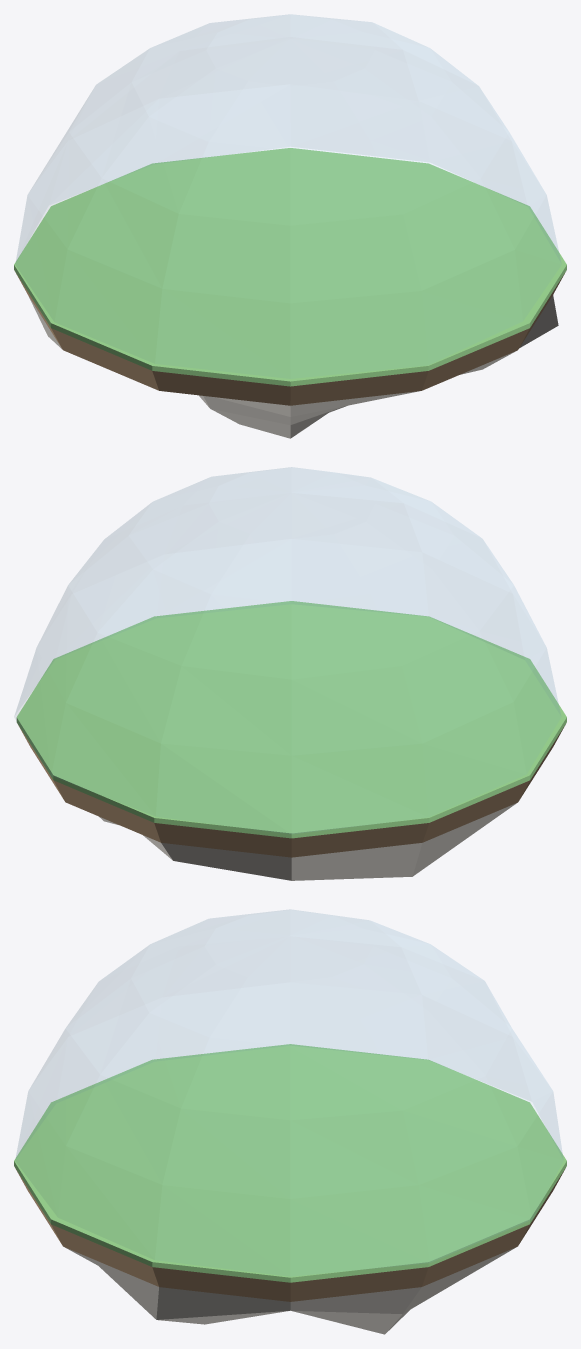
The model's file is water_island.glb.
3 views of the same model, one above another, from view 1: azimuth 30°, elevation 25°; view 2: azimuth 150°, elevation 25°; view 3: azimuth 270°, elevation 25° (orthographic).
Visible parts, largest first — view 1: Island, WaterDome; view 2: Island, WaterDome; view 3: Island, WaterDome.
Boxes of the visible parts, box(x1,y1,x2,y2) form: Island: box(14, 148, 566, 438); WaterDome: box(16, 14, 560, 262); Island: box(16, 601, 566, 880); WaterDome: box(15, 467, 560, 715); Island: box(14, 1044, 566, 1334); WaterDome: box(15, 909, 562, 1159).
Bounding box in the file's own units: 100 × 69.85 × 100.
